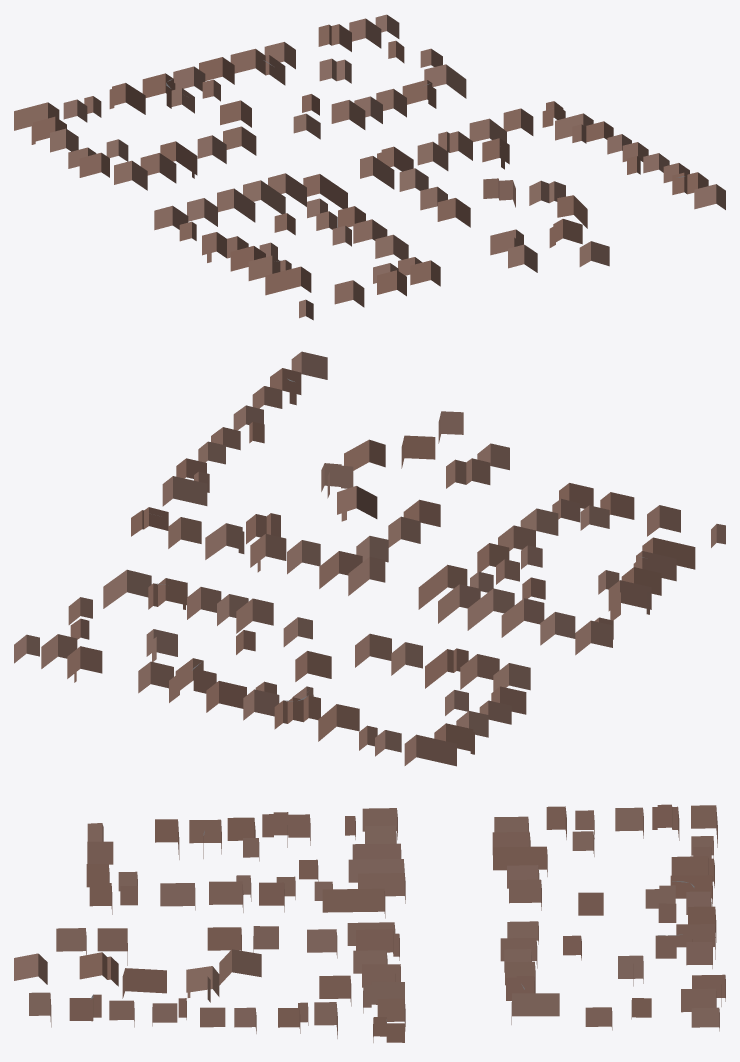
Rendered from c_1637_17822_buildings_residential.glb.
3 renders of one model, top to bottom at view 1: azimuth 30°, elevation 25°; view 2: azimuth 150°, elevation 25°; view 3: azimuth 270°, elevation 25°, orthographic. The views are drawn at different scales.
Parts seen in each view (by area): view 1: geometry_0; view 2: geometry_0; view 3: geometry_0.
Part boxes in pixels (bbox=[...]): geometry_0: bbox=[14, 14, 725, 320]; geometry_0: bbox=[14, 351, 725, 766]; geometry_0: bbox=[14, 804, 725, 1042].
Bounding box in the file's own units: 212 × 26.22 × 266.
